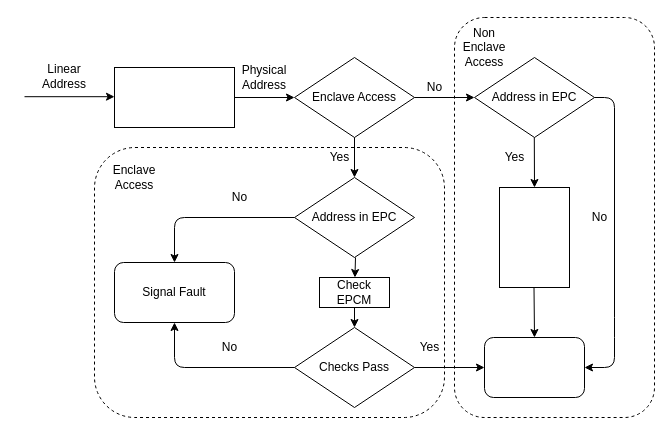
Some shapes in this 672 by 435 pixel diagram are drawn without their labels. The box of each missing label's shape, as (x1, y1, x2, y2) in pixels:
Allow Memory Access: (484, 336, 584, 398)
Replace Address With Abort Page: (498, 186, 570, 288)
Traditional IA PageTable Check: (114, 66, 234, 128)
